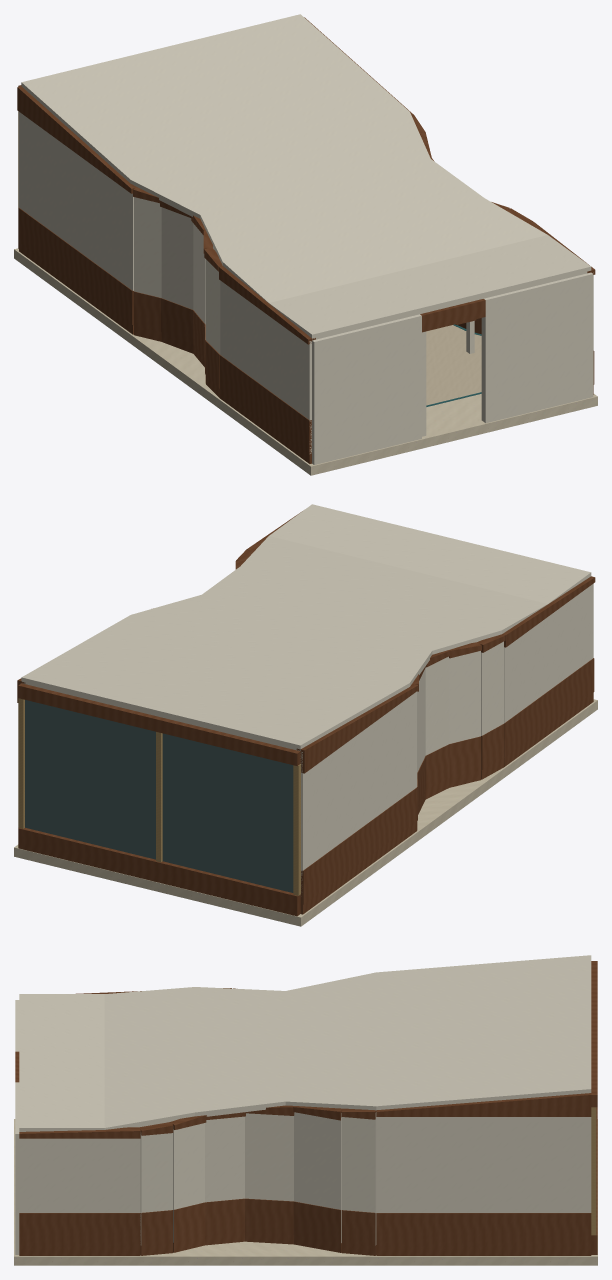
Rendered from shell.glb.
3 views of the same model, one above another, from view 1: azimuth 30°, elevation 25°; view 2: azimuth 150°, elevation 25°; view 3: azimuth 270°, elevation 25° (orthographic).
Visible parts, largest first — view 1: NG_Runtime_ivory_enamel, NG_Runtime_warm_walnut, NG_Runtime_warm_stone, NG_Runtime_oatmeal_weave; view 2: NG_Runtime_ivory_enamel, NG_Runtime_NG_SourceDirectionalPrivacy_NOT_RUNTIME_ACCEPTED, NG_Runtime_warm_walnut, NG_Runtime_warm_stone, NG_Runtime_champagne_metal; view 3: NG_Runtime_ivory_enamel, NG_Runtime_warm_walnut, NG_Runtime_warm_stone, NG_Runtime_champagne_metal.
Part boxes in pixels (x1=…): NG_Runtime_ivory_enamel: x1=19, y1=14, x2=593, y2=464; NG_Runtime_warm_walnut: x1=17, y1=17, x2=595, y2=463; NG_Runtime_warm_stone: x1=14, y1=248, x2=597, y2=475; NG_Runtime_oatmeal_weave: x1=426, y1=325, x2=481, y2=405; NG_Runtime_ivory_enamel: x1=21, y1=504, x2=593, y2=885; NG_Runtime_NG_SourceDirectionalPrivacy_NOT_RUNTIME_ACCEPTED: x1=25, y1=700, x2=293, y2=892; NG_Runtime_warm_walnut: x1=17, y1=511, x2=595, y2=916; NG_Runtime_warm_stone: x1=14, y1=699, x2=597, y2=926; NG_Runtime_champagne_metal: x1=18, y1=698, x2=300, y2=895; NG_Runtime_ivory_enamel: x1=15, y1=955, x2=591, y2=1254; NG_Runtime_warm_walnut: x1=15, y1=961, x2=597, y2=1255; NG_Runtime_warm_stone: x1=14, y1=1119, x2=597, y2=1265; NG_Runtime_champagne_metal: x1=591, y1=1107, x2=596, y2=1235.
Size of the model in its own units: 7.2 by 4.26 by 12.9.
Materials: 9 (7 with a texture image).
